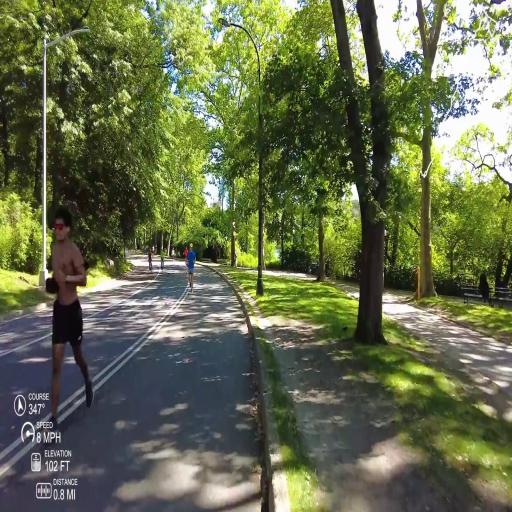Street_Light: (38, 19, 95, 296), (215, 12, 267, 299)
